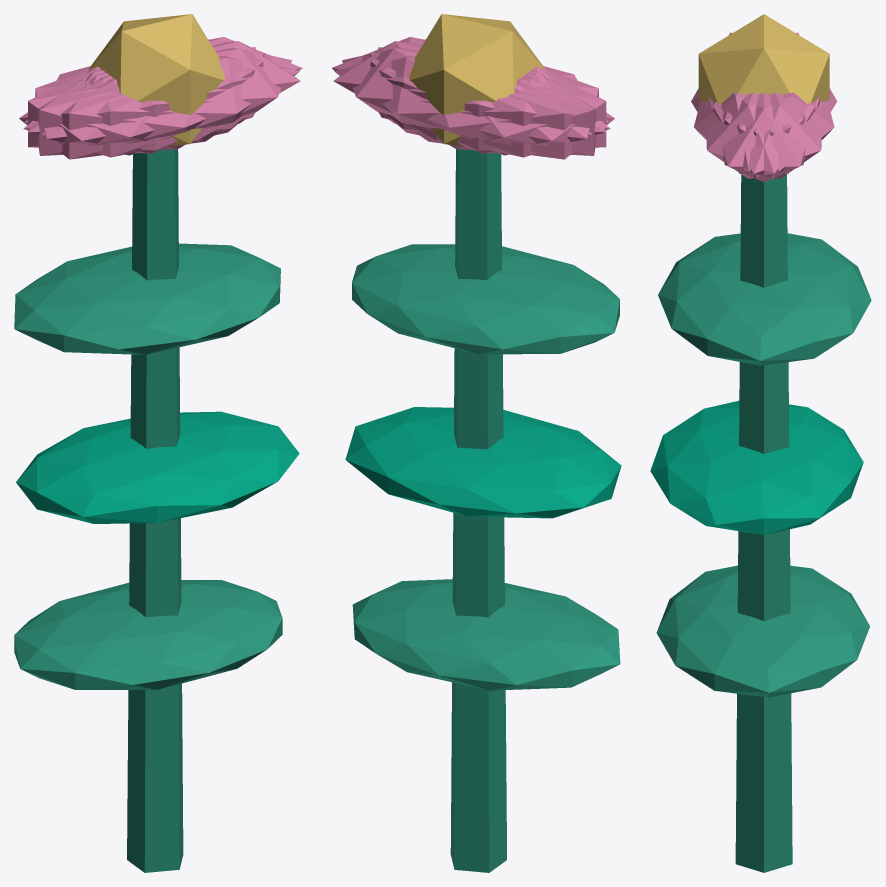
File: laportea-interrupta.glb
3 renders of one model, left to right at view 1: azimuth 30°, elevation 25°; view 2: azimuth 150°, elevation 25°; view 3: azimuth 270°, elevation 25°, orthographic.
Parts seen in each view (by area): view 1: stem, leaf1, leaf2, leaf0, center, petal1, petal6, petal2, petal5, petal7, petal0, petal4 (+2 smaller); view 2: stem, leaf2, leaf1, leaf0, center, petal8, petal3, petal7, petal4, petal2, petal0, petal5 (+2 smaller); view 3: stem, leaf2, leaf1, leaf0, center, petal0, petal5, petal4, petal8, petal1.
Boxes of the visible parts, x1=… form: stem: x1=127, y1=149, x2=183, y2=872; leaf1: x1=16, y1=411, x2=299, y2=523; leaf2: x1=14, y1=243, x2=280, y2=354; leaf0: x1=14, y1=580, x2=282, y2=689; center: x1=89, y1=14, x2=225, y2=146; petal1: x1=23, y1=56, x2=299, y2=157; petal6: x1=19, y1=68, x2=218, y2=159; petal2: x1=38, y1=47, x2=255, y2=155; petal5: x1=42, y1=48, x2=291, y2=150; petal7: x1=28, y1=53, x2=264, y2=153; petal0: x1=88, y1=41, x2=300, y2=140; petal4: x1=24, y1=37, x2=302, y2=132; stem: x1=450, y1=149, x2=506, y2=872; leaf2: x1=352, y1=244, x2=619, y2=354; leaf1: x1=345, y1=407, x2=621, y2=518; leaf0: x1=352, y1=579, x2=620, y2=690; center: x1=409, y1=14, x2=545, y2=146; petal8: x1=334, y1=56, x2=610, y2=157; petal3: x1=415, y1=68, x2=614, y2=159; petal7: x1=378, y1=47, x2=595, y2=155; petal4: x1=342, y1=48, x2=591, y2=150; petal2: x1=370, y1=53, x2=606, y2=153; petal0: x1=333, y1=41, x2=545, y2=140; petal5: x1=332, y1=37, x2=609, y2=132; stem: x1=735, y1=174, x2=792, y2=872; leaf2: x1=658, y1=233, x2=871, y2=365; leaf1: x1=650, y1=400, x2=863, y2=534; leaf0: x1=656, y1=565, x2=869, y2=697; center: x1=698, y1=14, x2=829, y2=103; petal0: x1=708, y1=93, x2=820, y2=182; petal5: x1=706, y1=93, x2=815, y2=178; petal4: x1=713, y1=93, x2=821, y2=178; petal8: x1=722, y1=92, x2=834, y2=171; petal1: x1=694, y1=92, x2=805, y2=171.
Bounding box in the file's own units: 0.1497 × 0.4275 × 0.1034.
